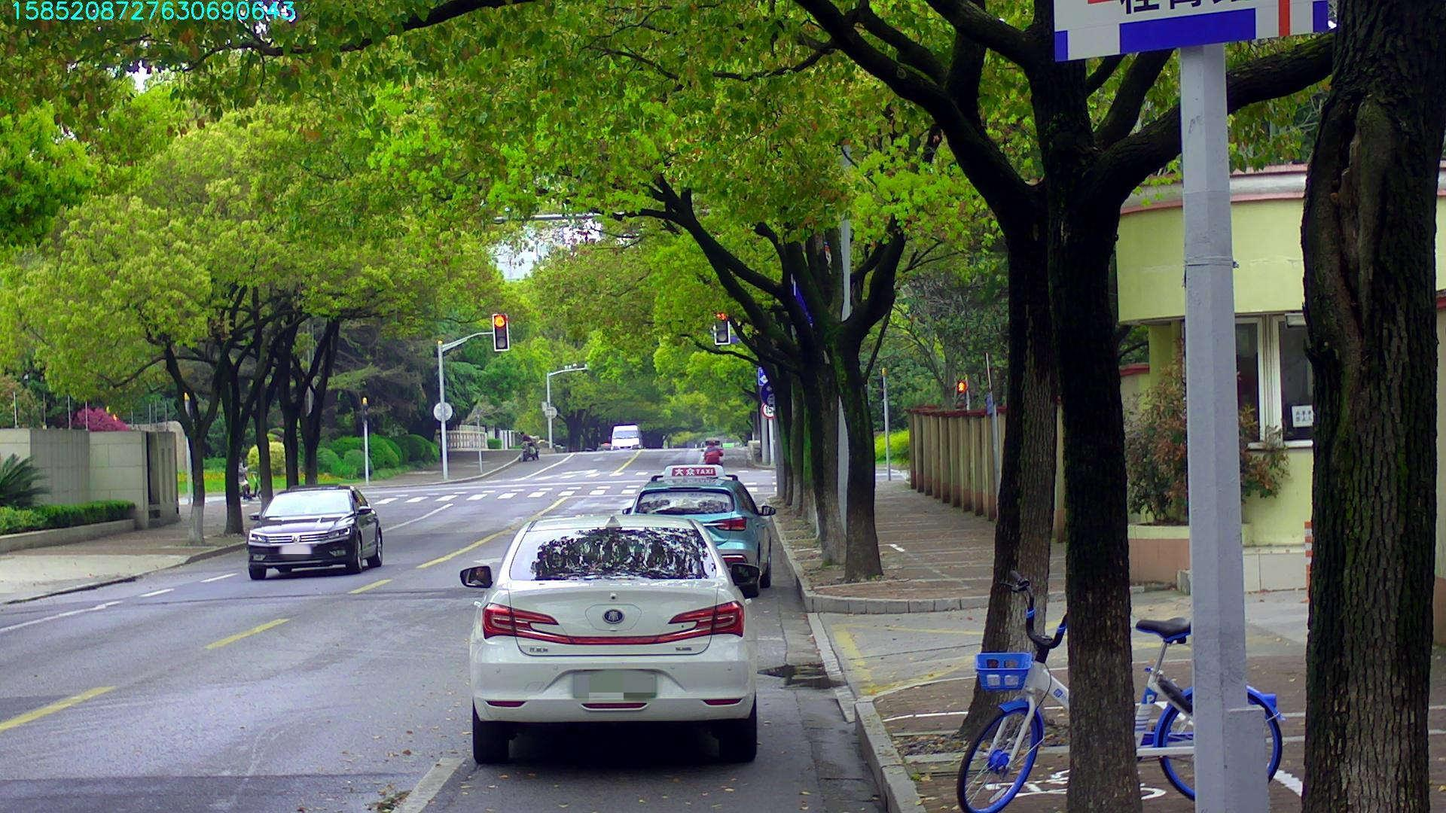red: (493, 314, 508, 349), (713, 312, 728, 343)
